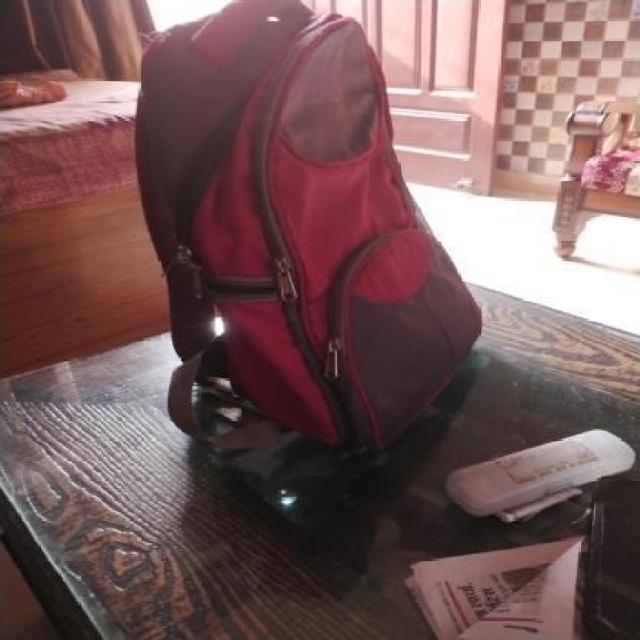backpack: (128, 0, 489, 466)
